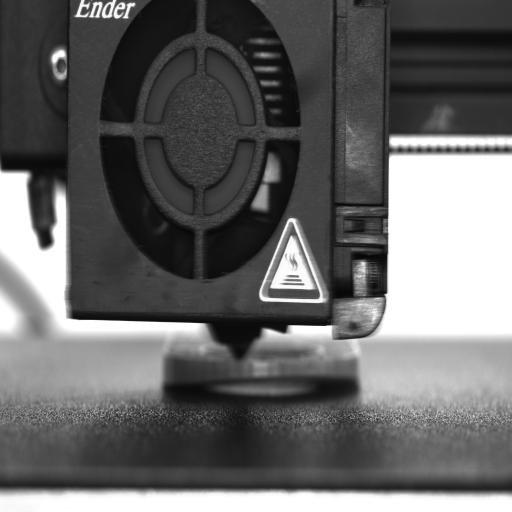warp: (165, 369, 357, 398)
